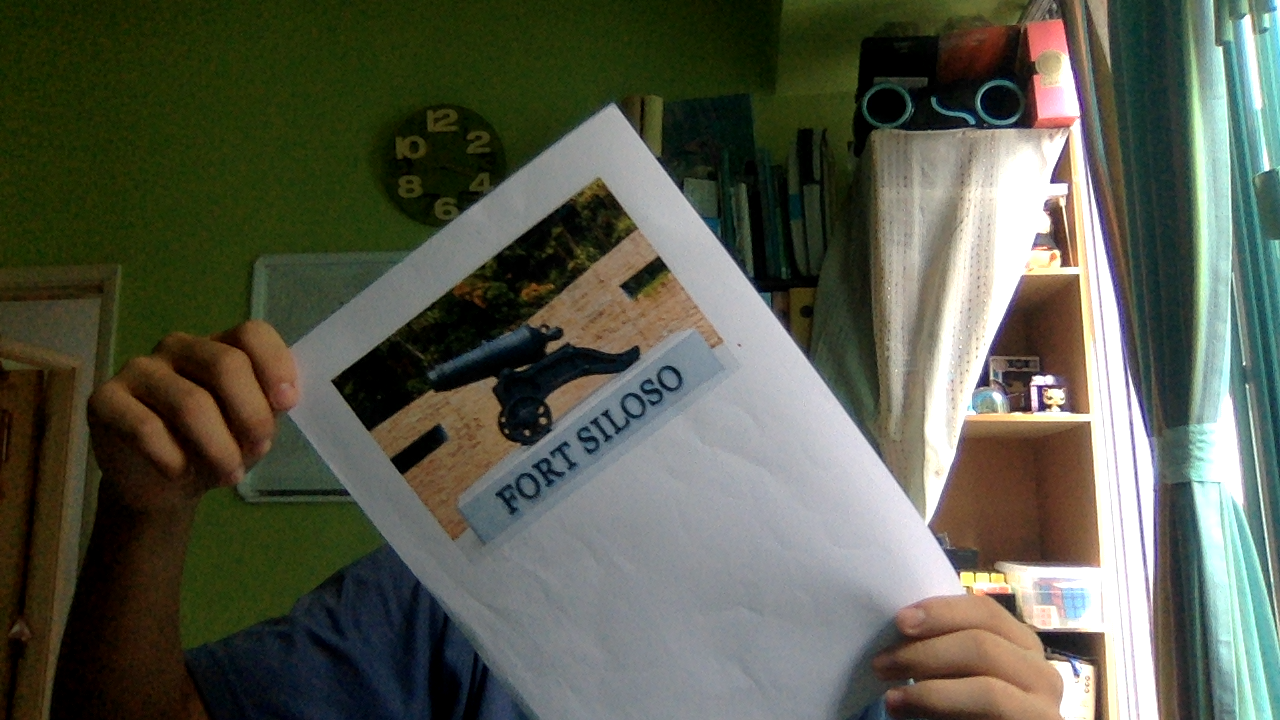siloso: (381, 257, 719, 526)
